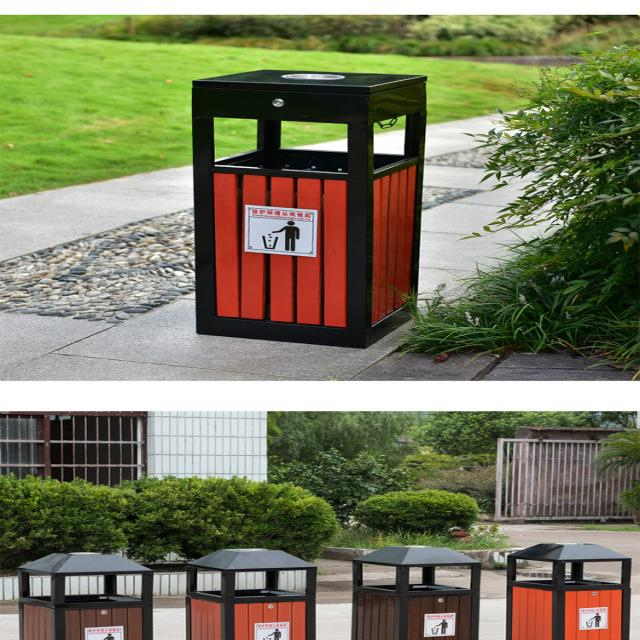ash bin: (187, 66, 434, 347), (178, 547, 325, 640), (499, 540, 635, 640), (348, 544, 486, 638), (10, 550, 160, 636)
